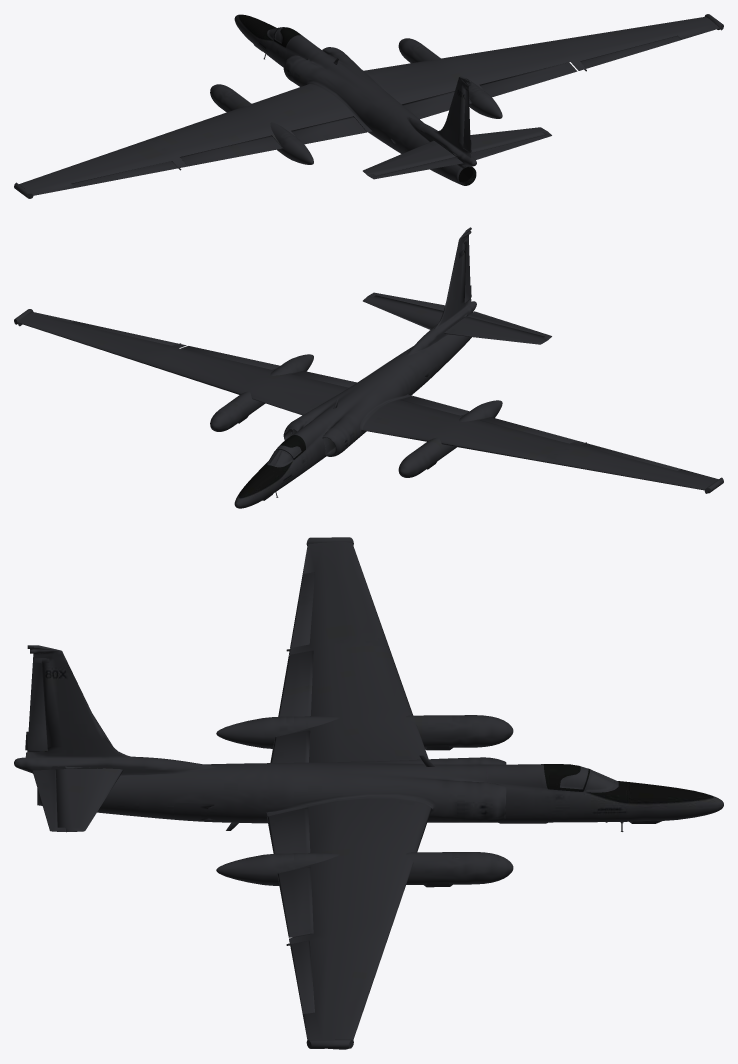
3 renders of one model, top to bottom at view 1: azimuth 30°, elevation 25°; view 2: azimuth 150°, elevation 25°; view 3: azimuth 270°, elevation 25°, orthographic. The views are drawn at different scales.
Visible parts, largest first — view 1: u2; view 2: u2; view 3: u2.
Part boxes in pixels (<box>): u2: <box>14,14,723,198</box>; u2: <box>14,227,723,508</box>; u2: <box>14,537,723,1049</box>.
Bounding box in the file's own units: 32.39 × 5.54 × 19.2.
Materials: 5 (5 with a texture image).
